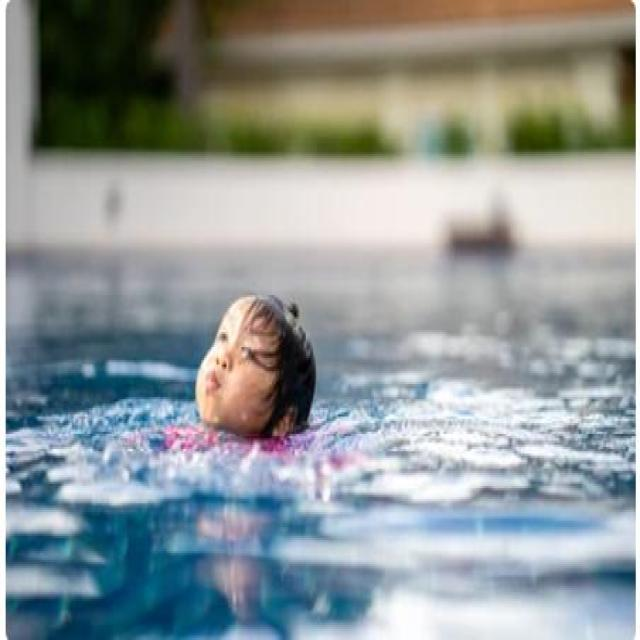Out of Water: (193, 283, 320, 452)
